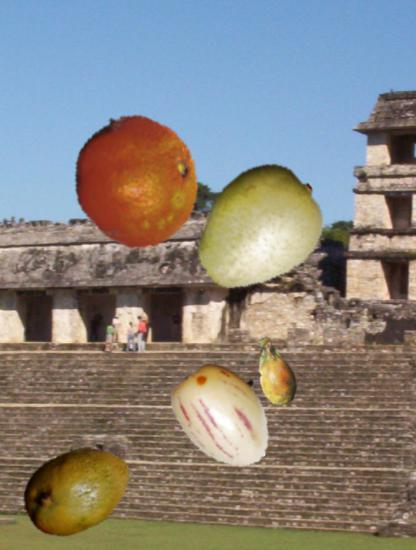Cactus: (238, 334, 312, 408)
Clementine: (67, 112, 206, 251)
Papaya: (21, 434, 134, 547)
Pear: (184, 160, 328, 304)
Pepino: (168, 357, 282, 471)
